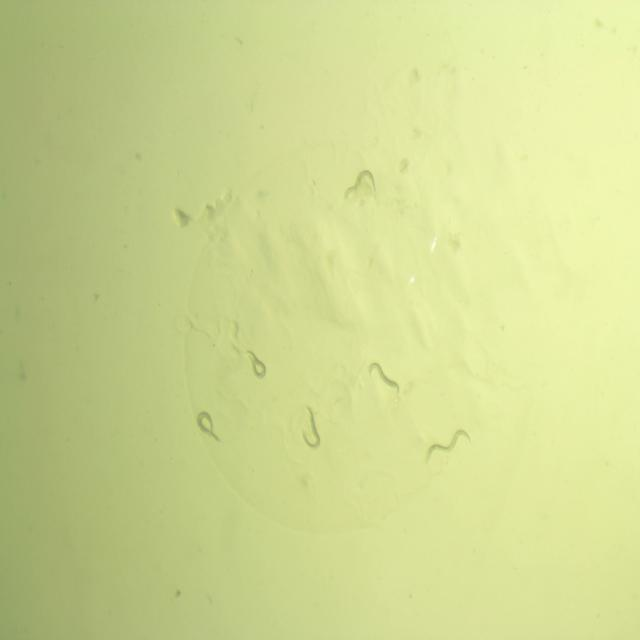worm: (422, 423, 473, 468), (365, 357, 402, 398), (342, 166, 379, 204), (297, 402, 325, 452), (193, 406, 224, 444), (244, 347, 270, 382)
